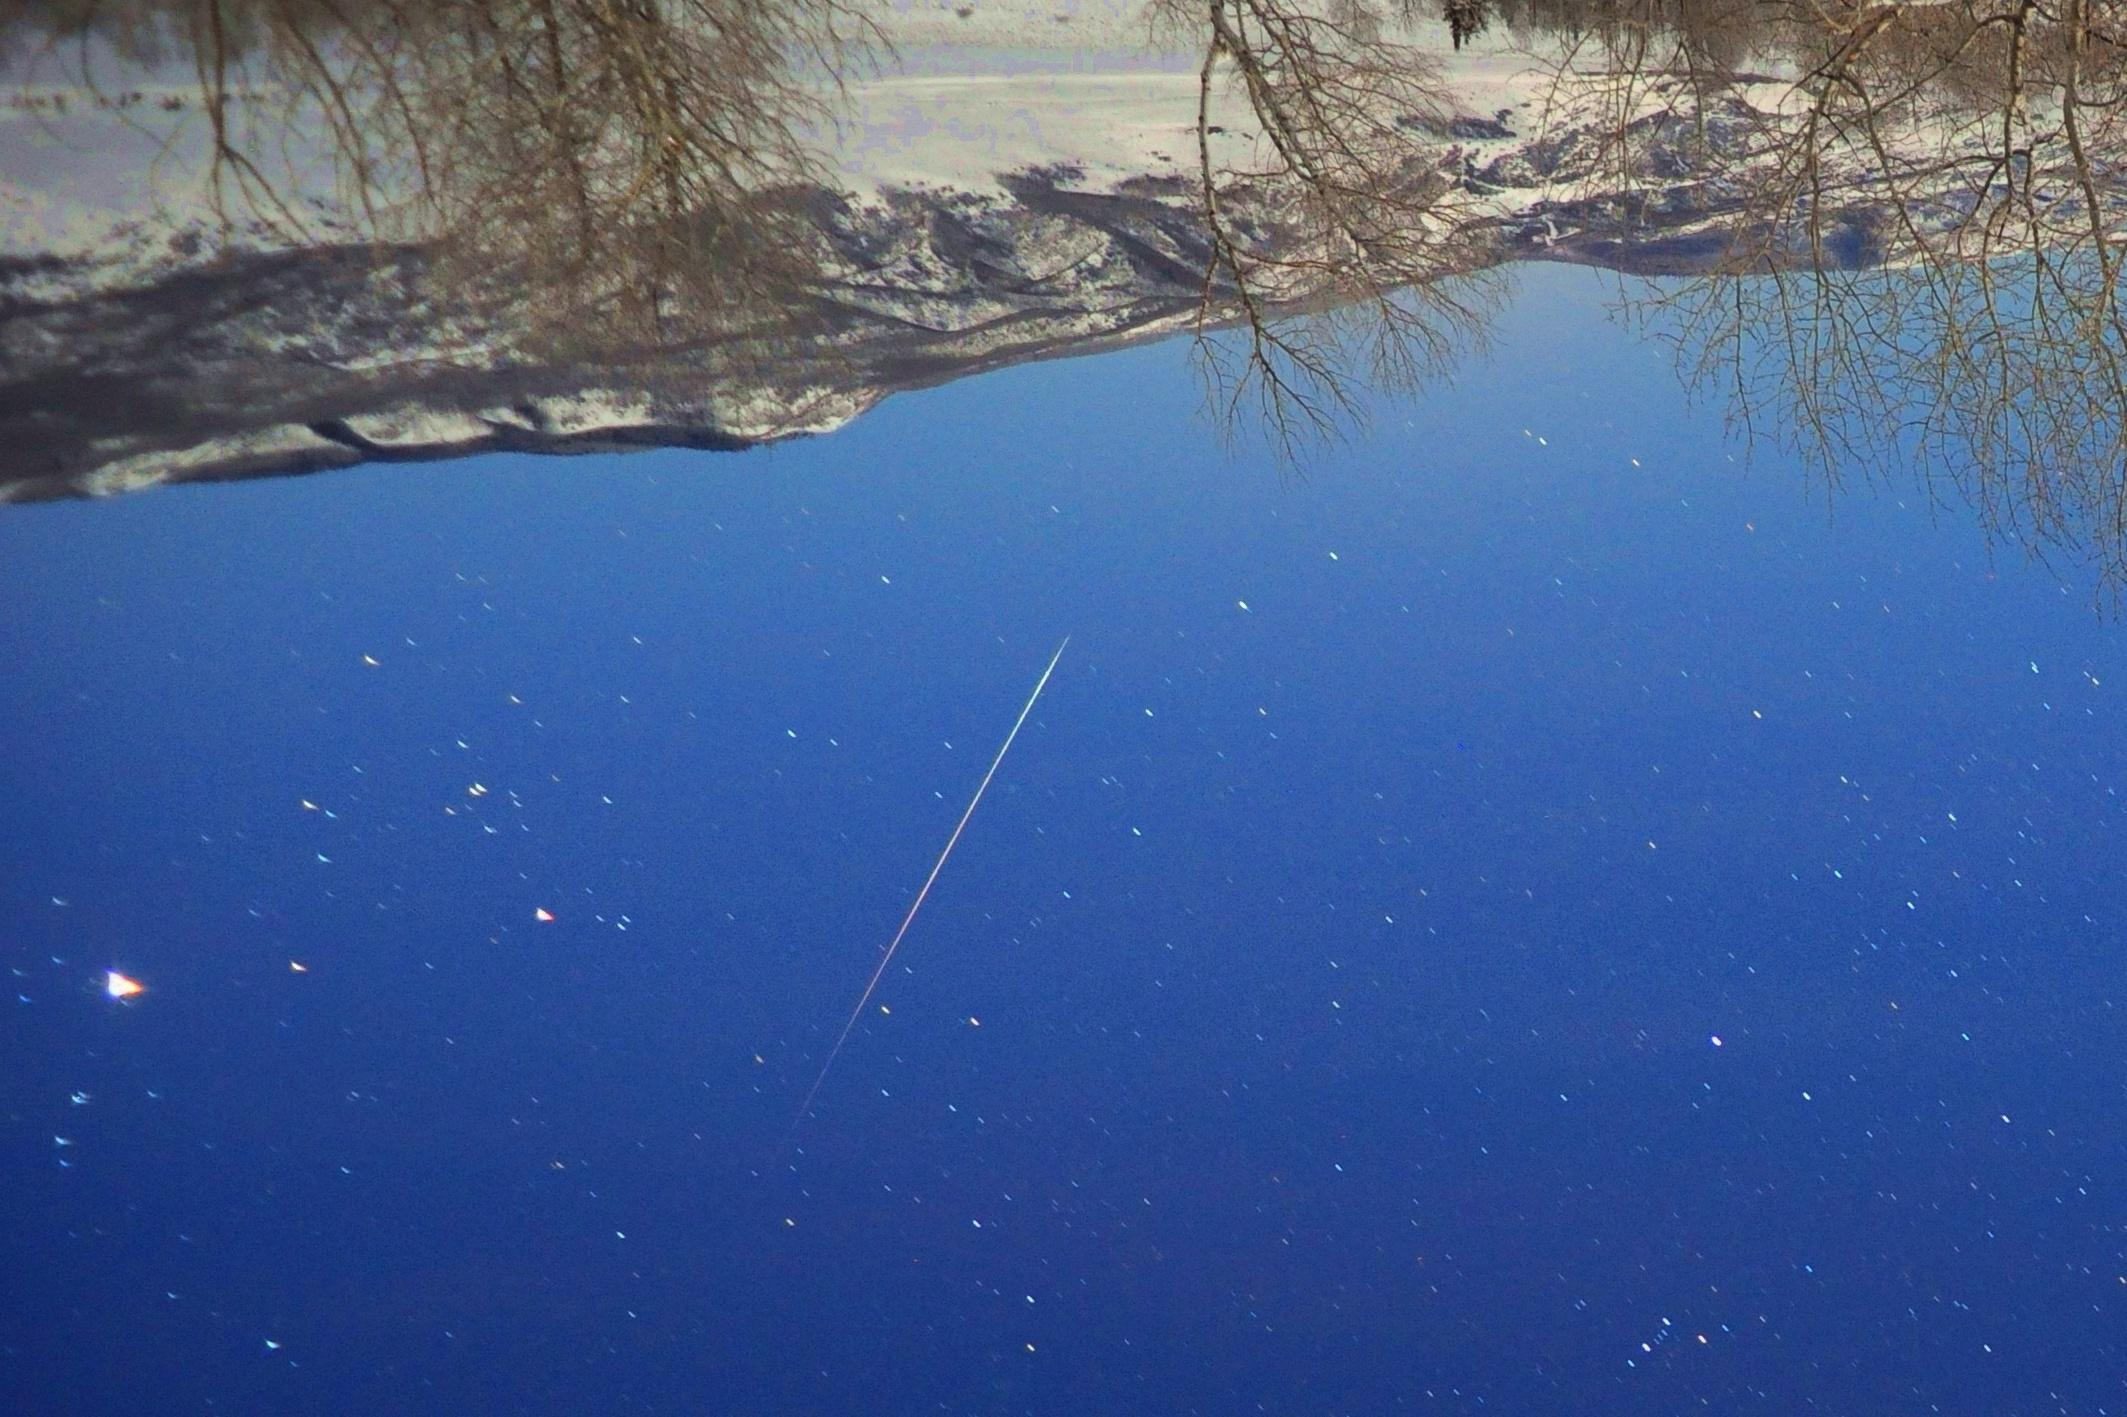meteorite: (789, 607, 1142, 1061)
